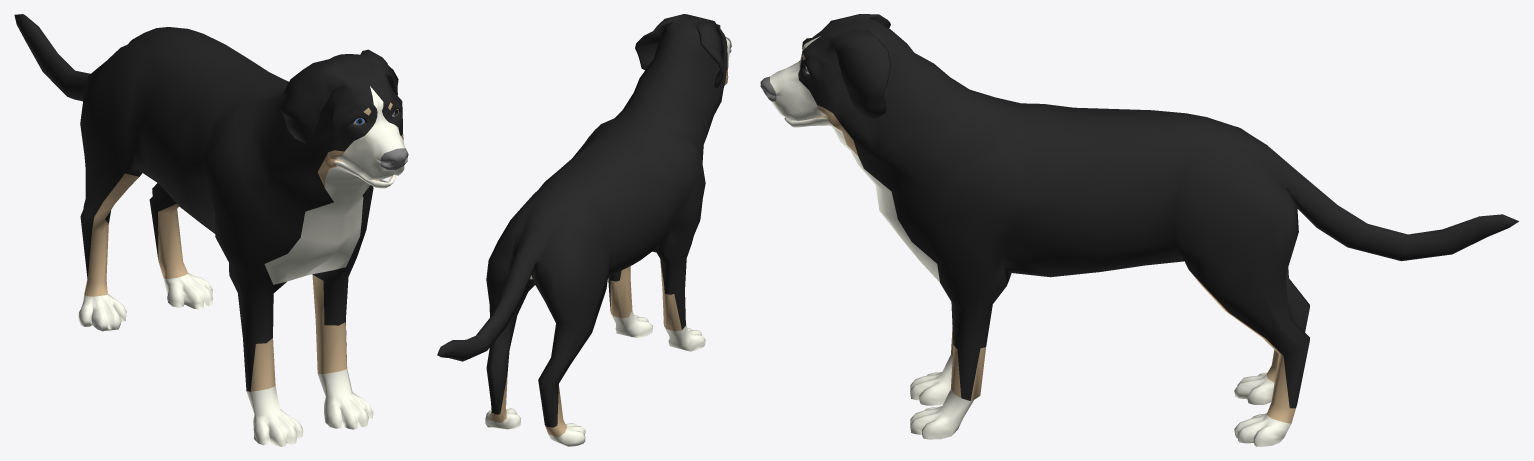
The model's file is dog2.obj.
3 renders of one model, left to right at view 1: azimuth 30°, elevation 25°; view 2: azimuth 150°, elevation 25°; view 3: azimuth 270°, elevation 25°, orthographic. The views are drawn at different scales.
Visible parts, largest first — view 1: Mesh1 Model; view 2: Mesh1 Model; view 3: Mesh1 Model.
Part boxes in pixels (left/top/right/bottom): Mesh1 Model: left=14, top=14, right=408, bottom=446; Mesh1 Model: left=437, top=14, right=731, bottom=446; Mesh1 Model: left=760, top=14, right=1518, bottom=446.
Bounding box in the file's own units: 11.65 × 31.19 × 54.44.
